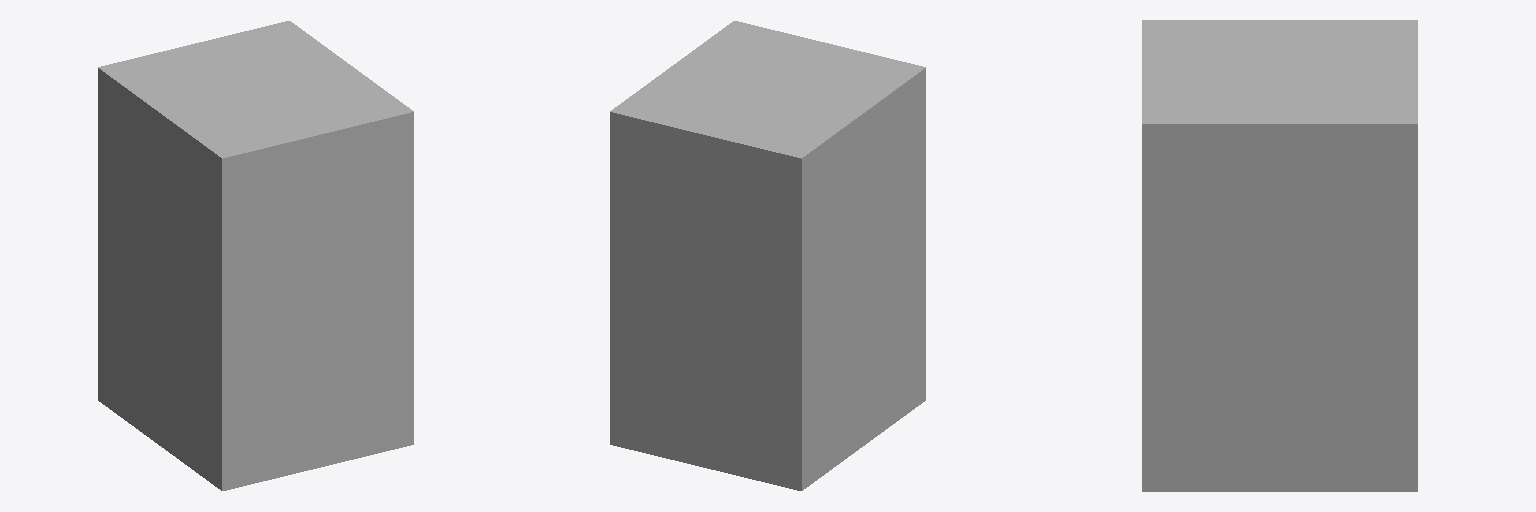
URDF robot description (root):
<?xml version='1.0' encoding='utf-8'?>
<robot name="root">
  <link name="link_001">
    <visual>
      <origin xyz="0 0 0" rpy="0 0 0" />
      <geometry>
        <mesh filename="9cae740430471d72bbdfc4f7dfe41a9415fffde32ded8971300c0b98ffeb1e4a_scale_208.stl" scale="1.0000E+00 1.0000E+00 1.0000E+00" />
      </geometry>
      <material name="">
        <color rgba="7.50E-01 7.50E-01 7.50E-01 1" />
      </material>
    </visual>
    <collision>
      <origin xyz="0 0 0" rpy="0 0 0" />
      <geometry>
        <mesh filename="9cae740430471d72bbdfc4f7dfe41a9415fffde32ded8971300c0b98ffeb1e4a_scale_208.stl" scale="1.0000E+00 1.0000E+00 1.0000E+00" />
      </geometry>
    </collision>
  </link>
</robot>

--- What the picture shows (computed from the rendered views, not written in the file) ---
The picture shows the robot from 3 angles, left to right: view 1: azimuth 30°, elevation 25°; view 2: azimuth 150°, elevation 25°; view 3: azimuth 270°, elevation 25°; orthographic projection.
Model root with 1 links and 0 joints (none), rooted at link_001, posed all joints at 0.
Links seen in each view (by area): view 1: link_001; view 2: link_001; view 3: link_001.
Link boxes in pixels (<box>): link_001: <box>98,21,413,490</box>; link_001: <box>610,21,925,490</box>; link_001: <box>1142,20,1417,491</box>.
Size in the robot's own frame: 0.0664 by 0.0747 by 0.11 metres.
Meshes: 1 distinct files referenced, 1 mesh visuals loaded (1 binary STL).
